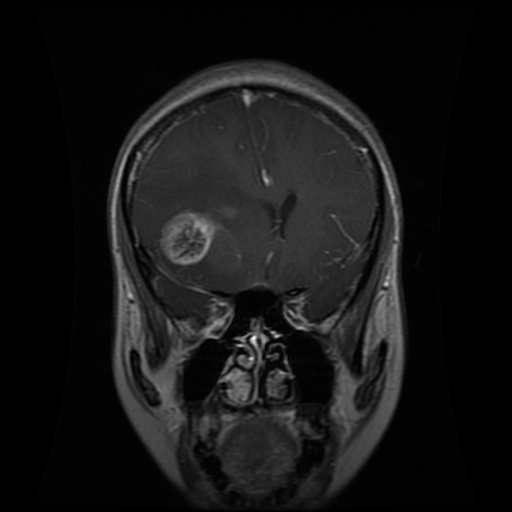glioma: (148, 198, 243, 273)
